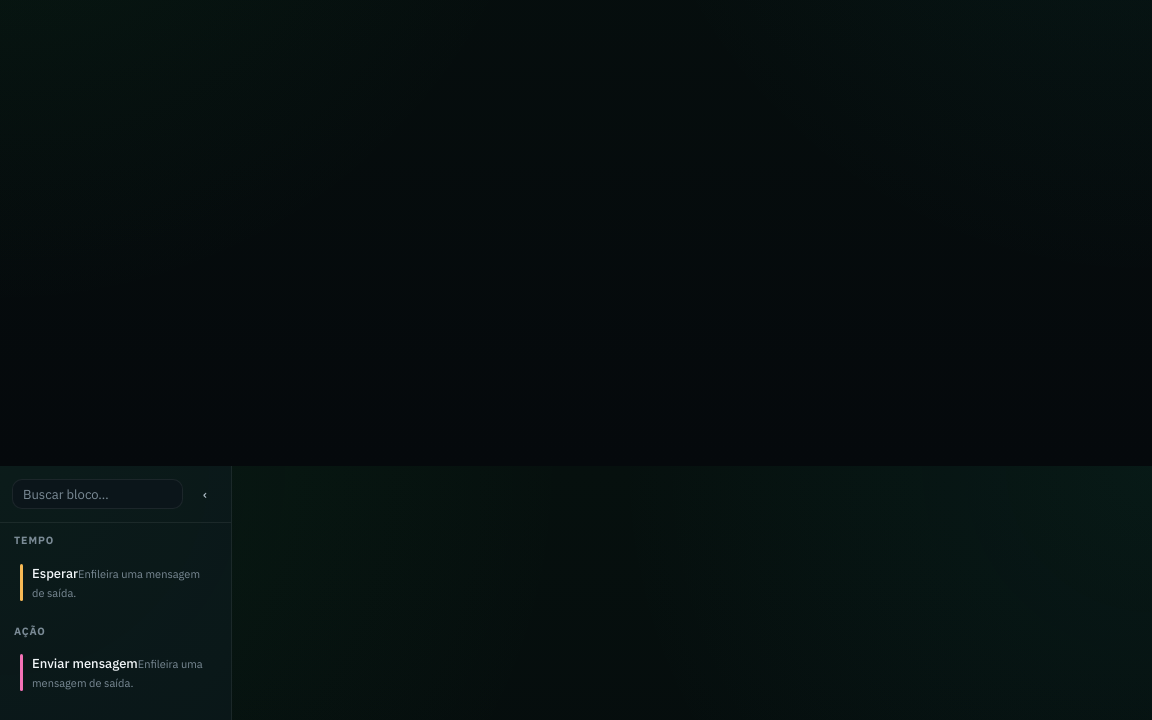
Scenario: Palette › filtra pela busca
(page scrolled)
Type "esper" into the search field labelled "Buscar bloco" at (98, 494), box [12, 479, 183, 509]
(page scrolled)
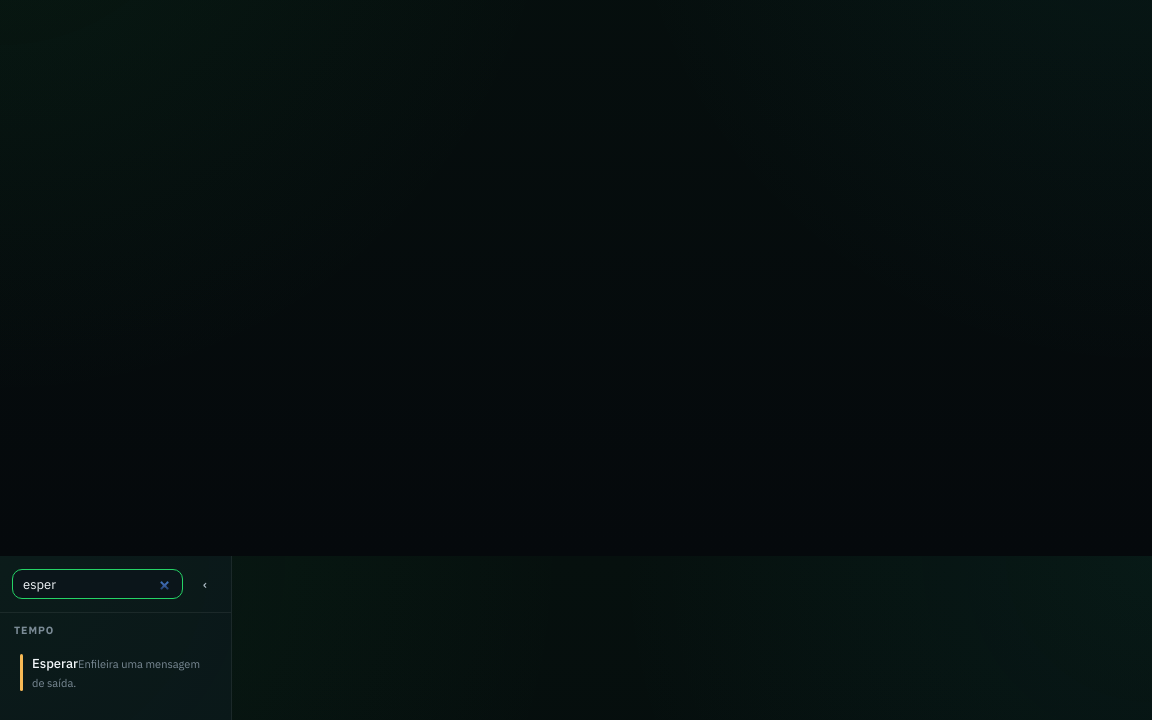
Expected: the button "Esperar" is shown, [10, 645, 221, 700]
Expected: the button "Enviar mensagem" is gone
